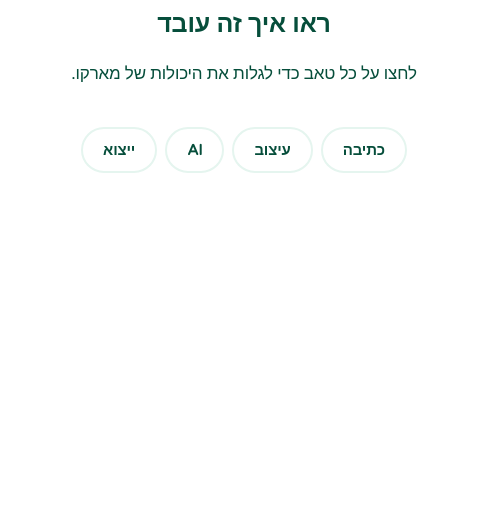
Test case: TabbedDemos › switches tab content on different tab click
The width and height of the screenshot is (489, 531).
// Click AI tab (index 2)
Click the button "AI" at (195, 150), box [165, 127, 224, 173]
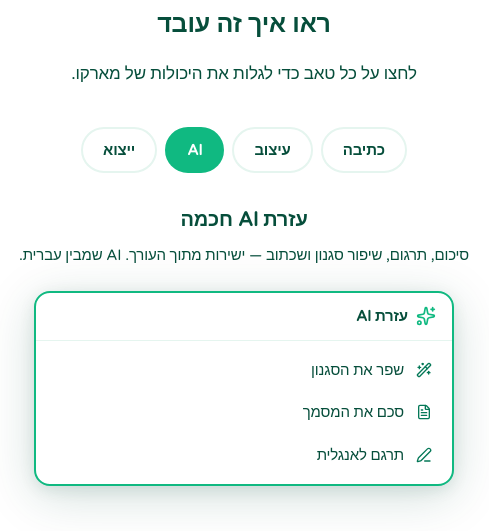
Check: the text "עזרת AI חכמה" is shown, box [180, 208, 308, 232]
